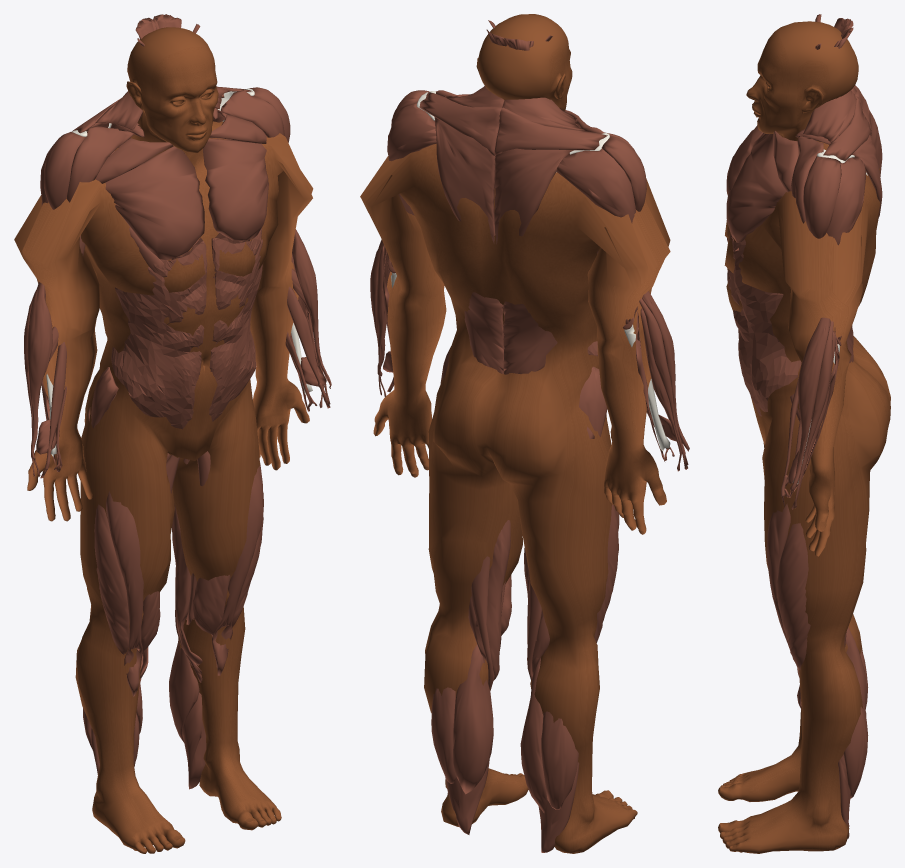
Rendered from body.glb.
3 views of the same model, side by side, from view 1: azimuth 30°, elevation 25°; view 2: azimuth 150°, elevation 25°; view 3: azimuth 270°, elevation 25° (orthographic). The views are drawn at different scales.
Visible parts, largest first — view 1: Body, External abdominal oblique muscle.012, Sternocostal head of pectoralis major muscle.007, External abdominal oblique muscle, Sternocostal head of pectoralis major muscle.006, Rectus femoris muscle.001, Vastus lateralis muscle.003, Rectus femoris muscle, Brachioradialis muscle.005, Clavicular part of deltoid muscle.003, Acromial part of deltoid muscle.003, Medial head of gastrocnemius (+13 smaller); view 2: Body, Medial head of gastrocnemius, Descending part of trapezius muscle, Descending part of trapezius muscle.003, Scapular spinal part of deltoid muscle.003, Transverse part of trapezius muscle.003, Latissimus dorsi muscle.005, Lateral head of gastrocnemius.003, Semimembranosus muscle, Latissimus dorsi muscle.002, Transverse part of trapezius muscle, Medial head of gastrocnemius.003 (+17 smaller); view 3: Body, External abdominal oblique muscle, Sternocostal head of pectoralis major muscle.006, Vastus lateralis muscle, Acromial part of deltoid muscle, Brachioradialis muscle.002, Scapular spinal part of deltoid muscle, Ascending part of trapezius muscle.002, Rectus femoris muscle, Lateral head of gastrocnemius, Extensor carpi radialis longus.002, Transverse part of trapezius muscle (+10 smaller).
Boxes of the visible parts, <box> form: Body: <box>14,27,313,853</box>; External abdominal oblique muscle.012: <box>111,237,207,429</box>; Sternocostal head of pectoralis major muscle.007: <box>105,146,204,260</box>; External abdominal oblique muscle: <box>209,228,262,421</box>; Sternocostal head of pectoralis major muscle.006: <box>203,138,268,241</box>; Rectus femoris muscle.001: <box>106,491,143,696</box>; Vastus lateralis muscle.003: <box>94,504,129,654</box>; Rectus femoris muscle: <box>212,461,263,675</box>; Brachioradialis muscle.005: <box>27,282,52,460</box>; Clavicular part of deltoid muscle.003: <box>66,125,134,202</box>; Acromial part of deltoid muscle.003: <box>44,132,85,209</box>; Medial head of gastrocnemius: <box>169,616,199,742</box>; Body: <box>360,14,670,853</box>; Medial head of gastrocnemius: <box>452,644,493,794</box>; Descending part of trapezius muscle: <box>434,117,495,243</box>; Descending part of trapezius muscle.003: <box>494,148,573,244</box>; Scapular spinal part of deltoid muscle.003: <box>556,149,635,223</box>; Transverse part of trapezius muscle.003: <box>494,107,607,156</box>; Latissimus dorsi muscle.005: <box>503,301,557,374</box>; Lateral head of gastrocnemius.003: <box>541,711,578,809</box>; Semimembranosus muscle: <box>468,520,510,680</box>; Latissimus dorsi muscle.002: <box>464,292,503,373</box>; Transverse part of trapezius muscle: <box>419,92,501,156</box>; Medial head of gastrocnemius.003: <box>520,657,547,812</box>; Body: <box>718,21,890,853</box>; External abdominal oblique muscle: <box>727,233,801,416</box>; Sternocostal head of pectoralis major muscle.006: <box>726,134,786,242</box>; Vastus lateralis muscle: <box>777,523,810,703</box>; Acromial part of deltoid muscle: <box>803,156,841,238</box>; Brachioradialis muscle.002: <box>790,317,830,492</box>; Scapular spinal part of deltoid muscle: <box>826,157,865,245</box>; Ascending part of trapezius muscle.002: <box>803,27,856,142</box>; Rectus femoris muscle: <box>766,503,801,710</box>; Lateral head of gastrocnemius: <box>843,700,868,798</box>; Extensor carpi radialis longus.002: <box>791,321,833,509</box>; Transverse part of trapezius muscle: <box>823,95,871,160</box>.
Bounding box in the file's own units: 0.5792 × 1.44 × 0.2841.
3 materials, 1 textured.
